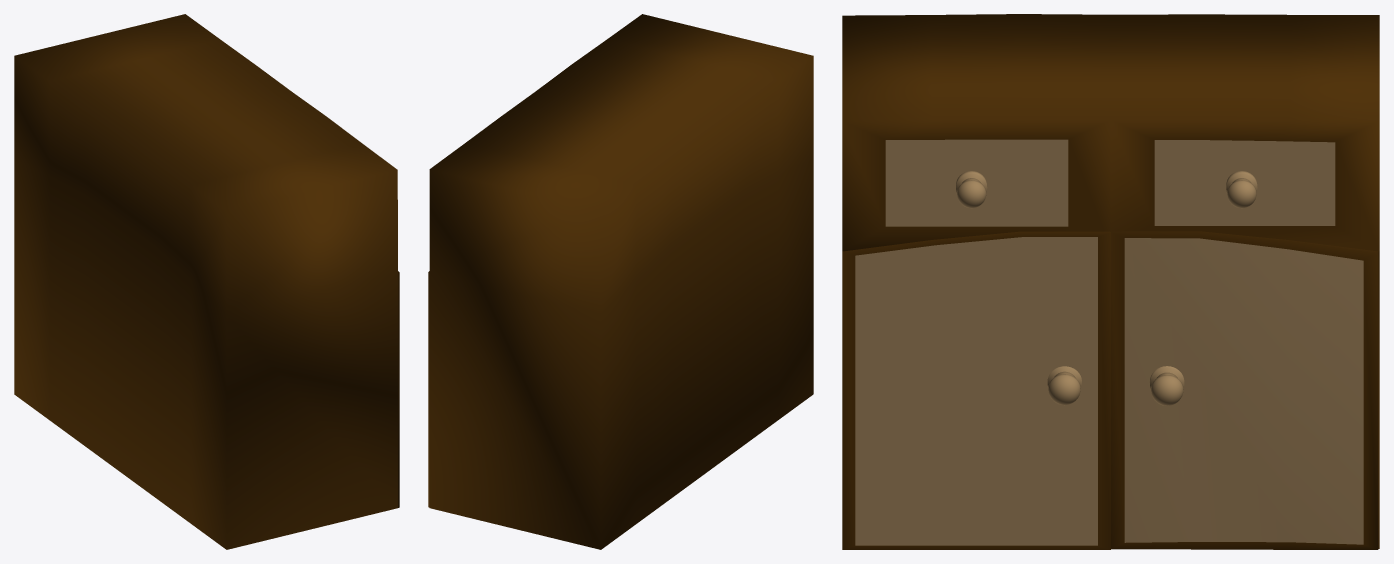
Rendered from Bedside.fbx.
3 views of the same model, side by side, from view 1: azimuth 30°, elevation 25°; view 2: azimuth 150°, elevation 25°; view 3: azimuth 270°, elevation 25° (orthographic). The views are drawn at different scales.
Visible parts, largest first — view 1: Cube, Cube.001; view 2: Cube, Cube.002; view 3: Cube, Cube.001, Cube.002, Sphere.001, Sphere, Sphere.002, Sphere.003.
Part boxes in pixels (box(x1,y1,x2,y2)): Cube: box(14, 14, 397, 549); Cube.001: box(398, 271, 399, 507); Cube: box(429, 14, 813, 549); Cube.002: box(428, 271, 429, 507); Cube: box(842, 14, 1379, 548); Cube.001: box(842, 231, 1110, 549); Cube.002: box(1110, 231, 1378, 549); Sphere.001: box(1150, 366, 1184, 405); Sphere: box(1047, 366, 1081, 405); Sphere.002: box(1226, 171, 1257, 208); Sphere.003: box(956, 171, 987, 208).
Bounding box in the file's own units: 155 × 257 × 292.
